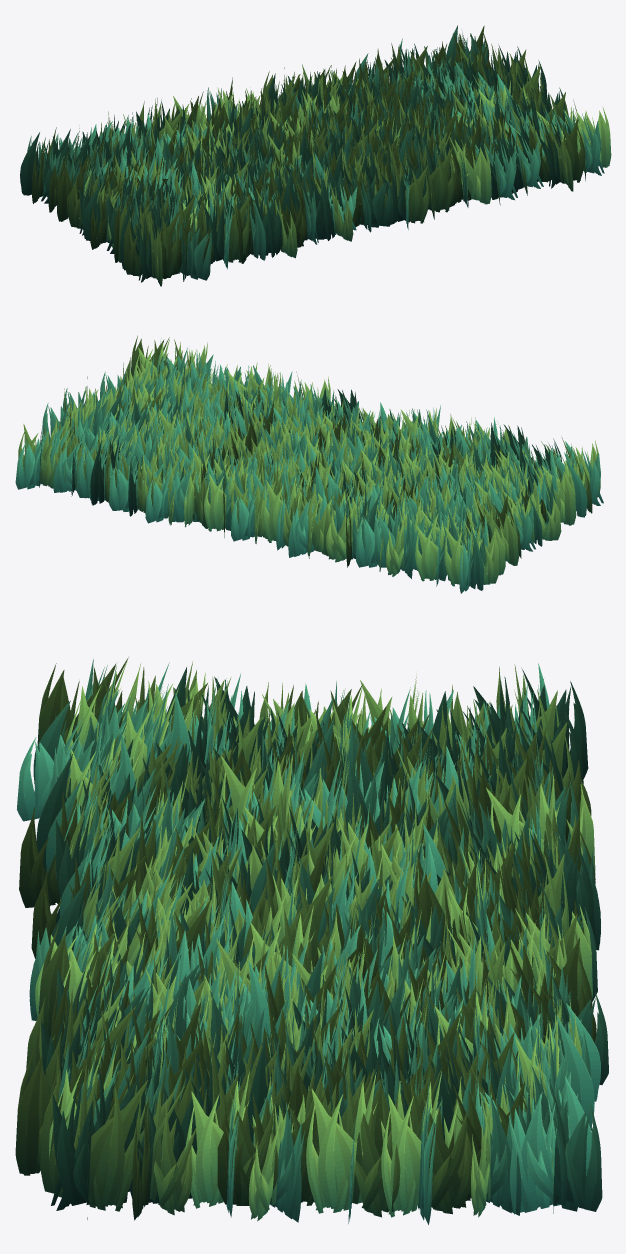
Rendered from brush_near.obj.
3 views of the same model, one above another, from view 1: azimuth 30°, elevation 25°; view 2: azimuth 150°, elevation 25°; view 3: azimuth 270°, elevation 25° (orthographic). The views are drawn at different scales.
Size of the model in its own units: 9.01 by 1.35 by 4.87.
Materials: 1 (1 with a texture image).
